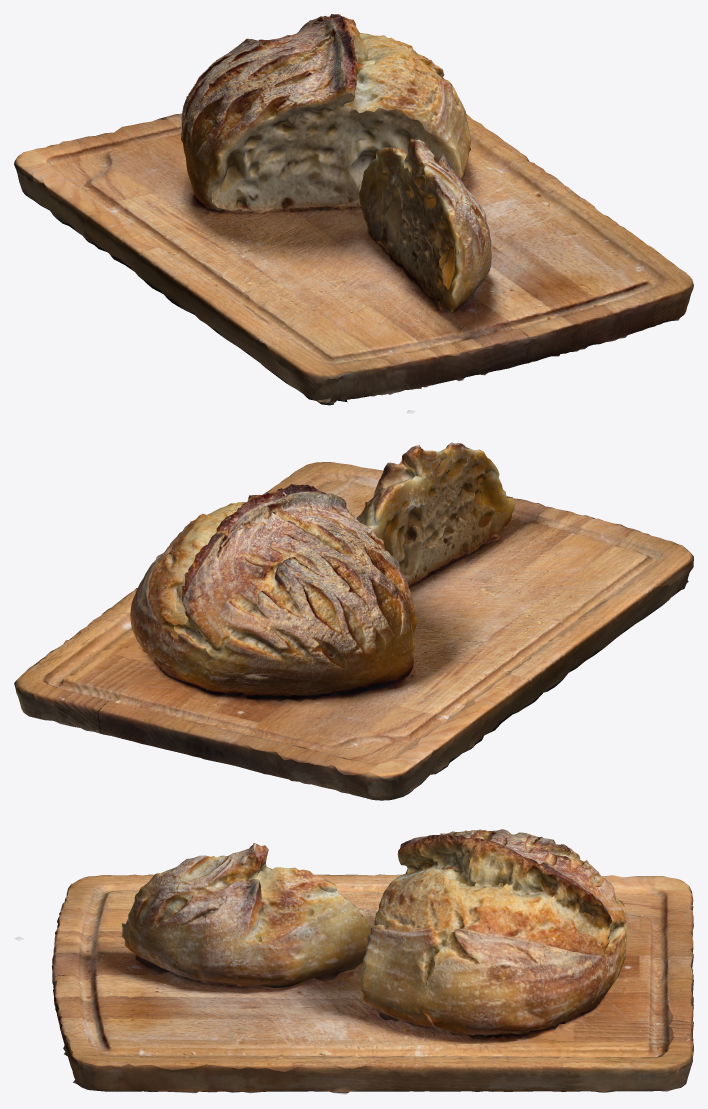
Rendered from Sliced sourdough bread on board.obj.
The picture shows the model from 3 angles, top to bottom: view 1: azimuth 30°, elevation 25°; view 2: azimuth 150°, elevation 25°; view 3: azimuth 270°, elevation 25°; orthographic projection.
Visible parts, largest first — view 1: Object; view 2: Object; view 3: Object.
Boxes of the visible parts, x1,y1,x2,y2 form: Object: [14, 14, 693, 413]; Object: [14, 442, 693, 800]; Object: [14, 829, 693, 1094].
Bounding box in the file's own units: 0.2821 × 0.1237 × 0.4215.
Materials: 1 (1 with a texture image).
